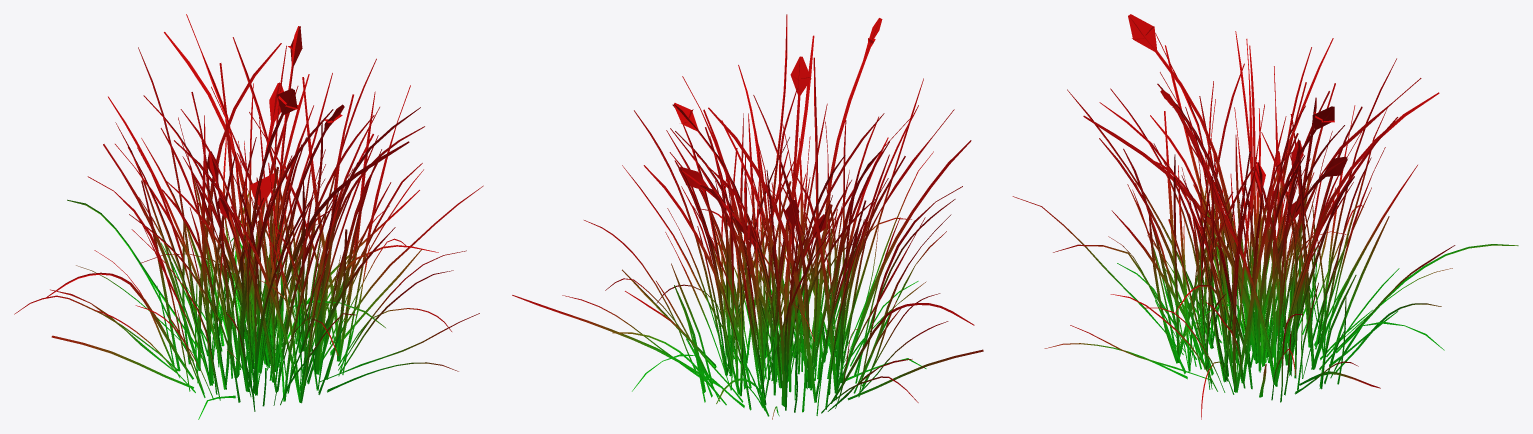
The model's file is ueyoebmia_Var9_LOD0.fbx.
The picture shows the model from 3 angles, left to right: view 1: azimuth 30°, elevation 25°; view 2: azimuth 150°, elevation 25°; view 3: azimuth 270°, elevation 25°; orthographic projection. The views are drawn at different scales.
Parts seen in each view (by area): view 1: _3766_Var9_LOD0; view 2: _3766_Var9_LOD0; view 3: _3766_Var9_LOD0.
Part boxes in pixels (x1,y1,x2,y2): _3766_Var9_LOD0: (14, 14, 483, 419); _3766_Var9_LOD0: (512, 14, 983, 419); _3766_Var9_LOD0: (1012, 14, 1518, 419).
Bounding box in the file's own units: 49.31 × 37.49 × 51.31.
